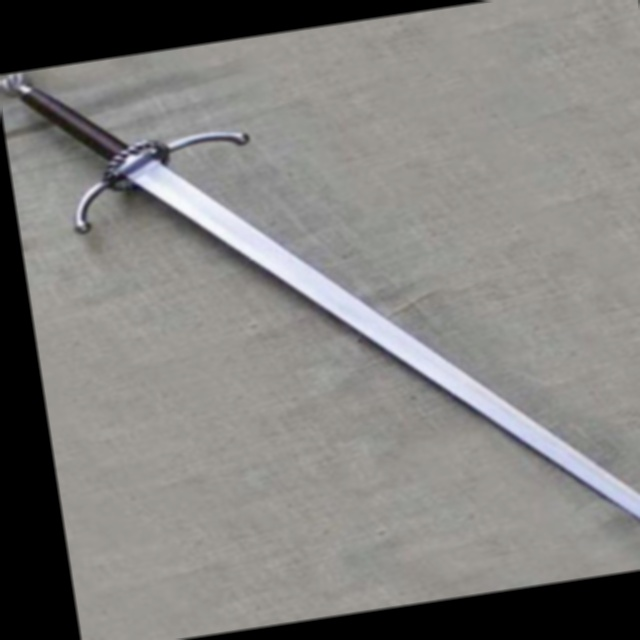Sharp-Object: (32, 25, 640, 640)
